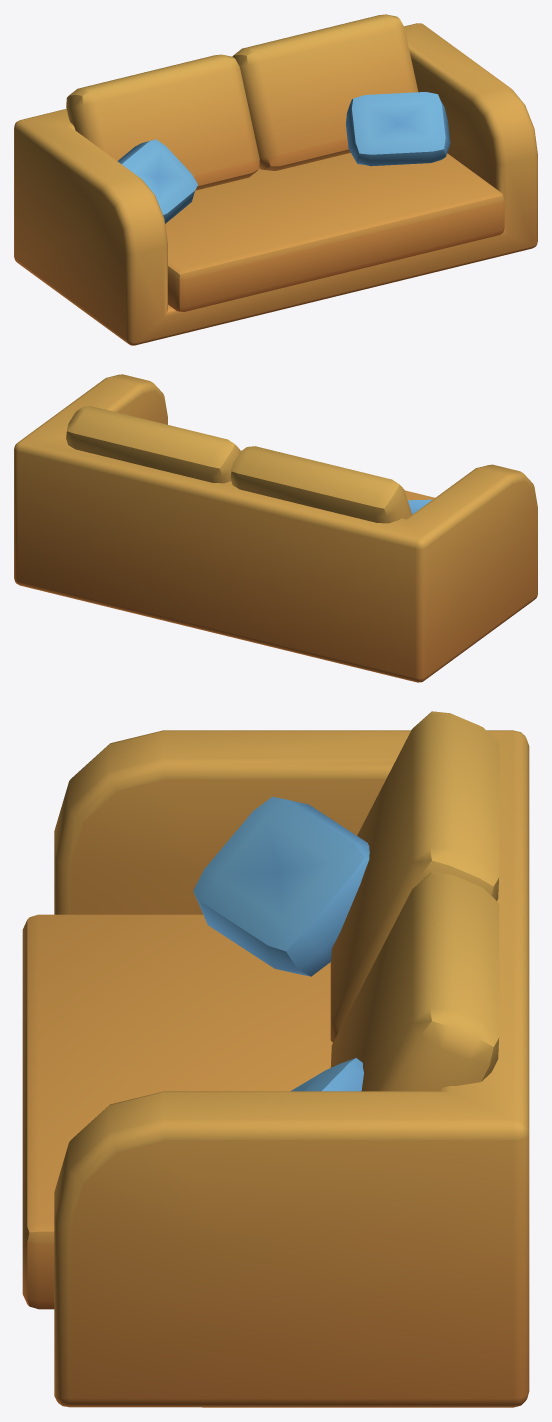
File: couch-pillows.glb
3 views of the same model, one above another, from view 1: azimuth 30°, elevation 25°; view 2: azimuth 150°, elevation 25°; view 3: azimuth 270°, elevation 25° (orthographic). The views are drawn at different scales.
Parts seen in each view (by area): view 1: couch_pillows; view 2: couch_pillows; view 3: couch_pillows.
Boxes of the visible parts, x1,y1,x2,y2 form: couch_pillows: [14, 14, 537, 345]; couch_pillows: [14, 374, 537, 682]; couch_pillows: [22, 711, 529, 1407].
Bounding box in the file's own units: 3 × 1.22 × 1.6.
